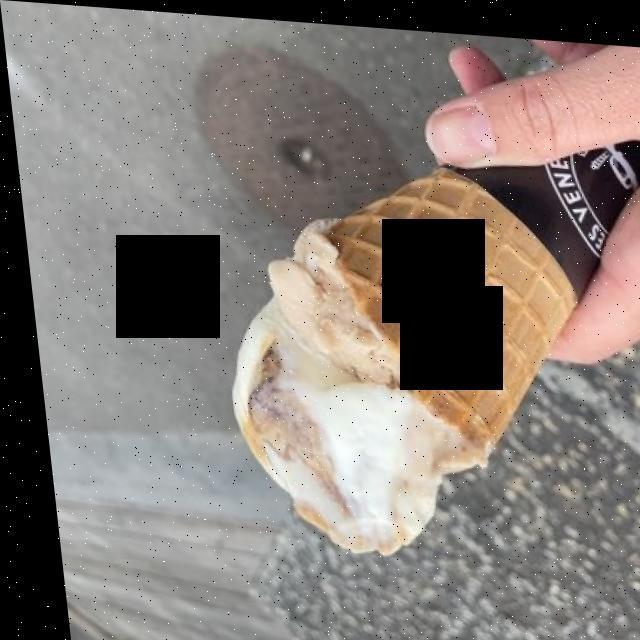ice-cream: (217, 228, 453, 540)
